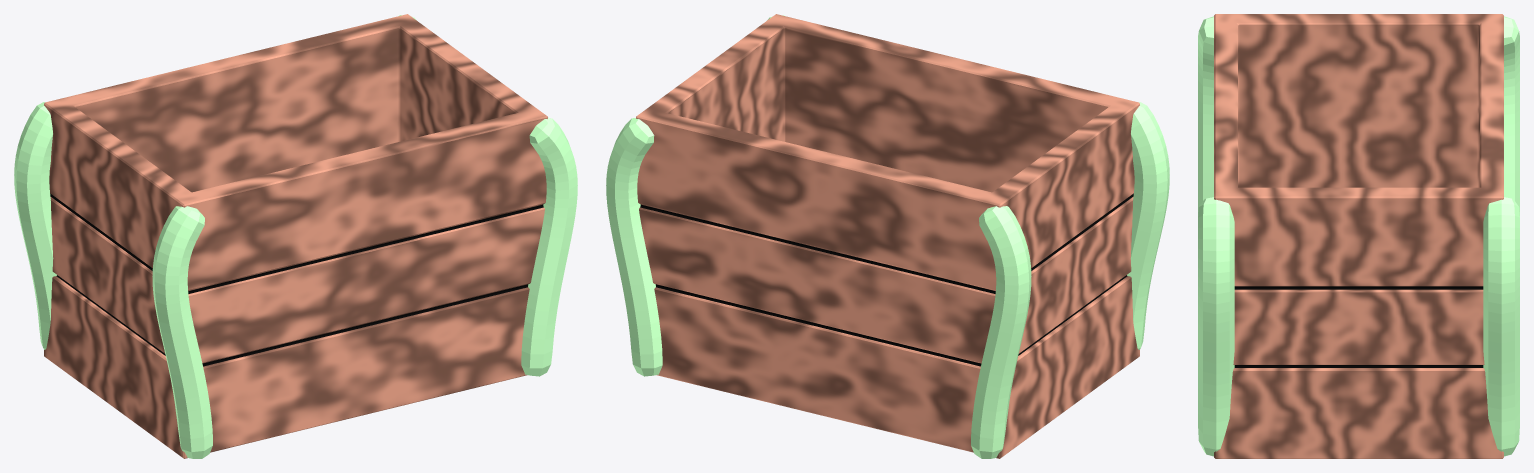
Rendered from chestBase.gltf.
The picture shows the model from 3 angles, left to right: view 1: azimuth 30°, elevation 25°; view 2: azimuth 150°, elevation 25°; view 3: azimuth 270°, elevation 25°; orthographic projection. The views are drawn at different scales.
Visible parts, largest first — view 1: ChestBase; view 2: ChestBase; view 3: ChestBase.
Boxes of the visible parts, bbox=[...] form: ChestBase: bbox=[14, 14, 577, 458]; ChestBase: bbox=[606, 14, 1169, 458]; ChestBase: bbox=[1198, 14, 1519, 458].
Size of what is drawn, in the model's own units: 3.46 by 2.02 by 2.22.
Materials: 3 (1 with a texture image).
